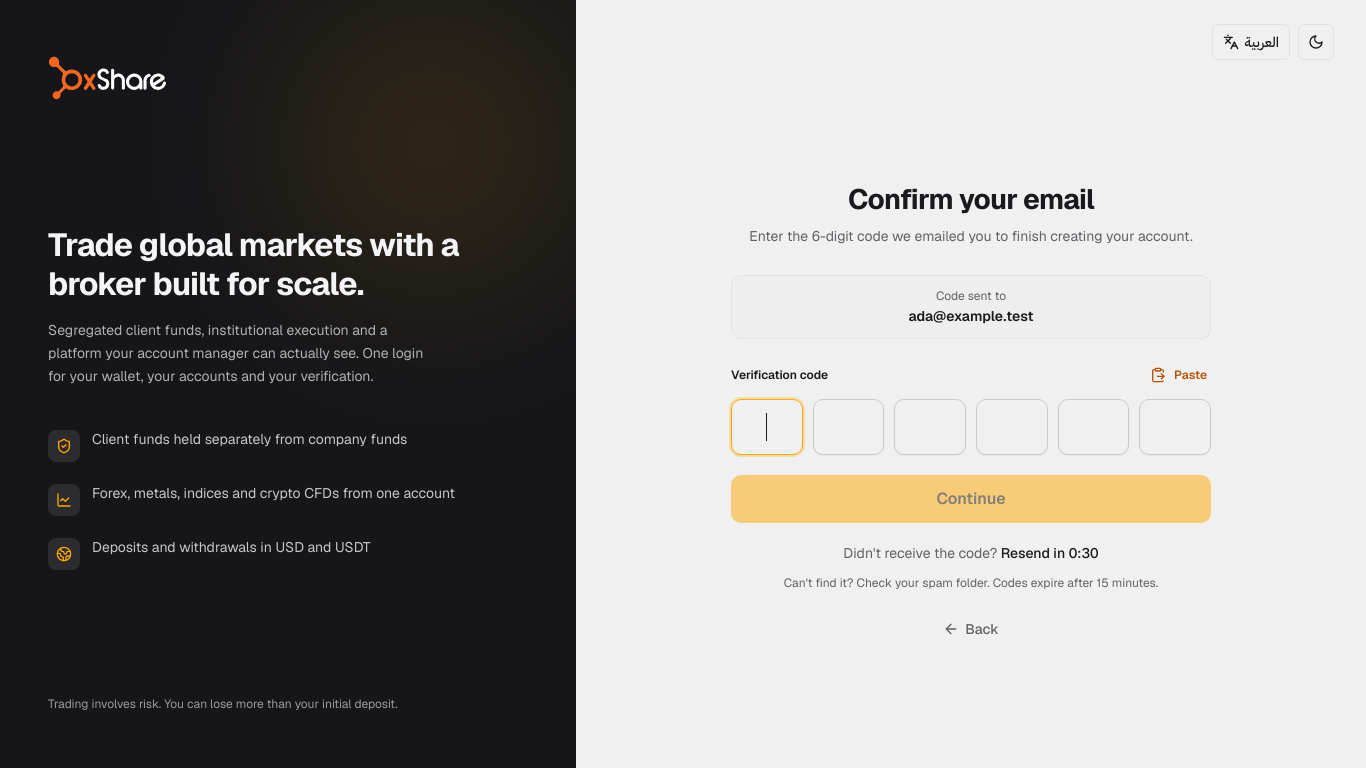
Test: paste › says so when the clipboard holds no code, and submits nothing
Click the button "Paste": (1179, 375) x1=1138 y1=359 x2=1219 y2=391
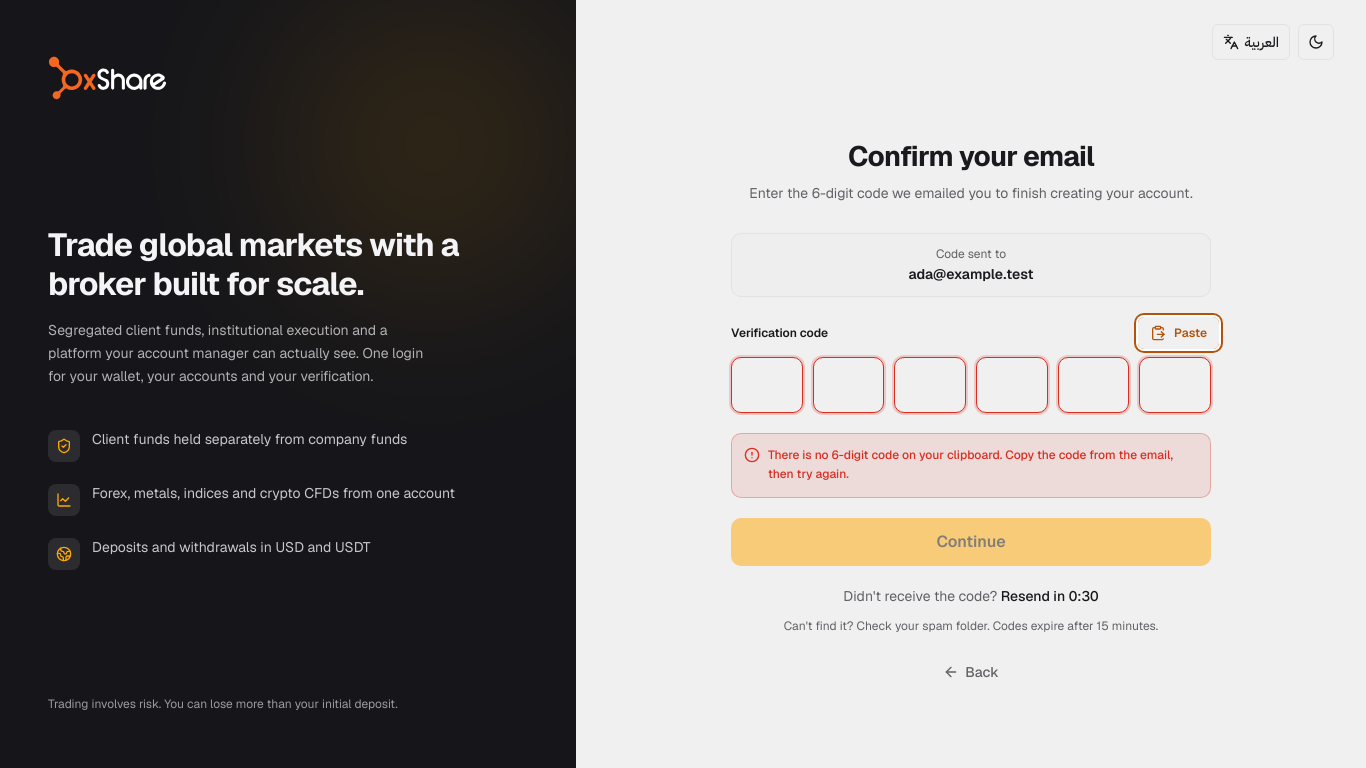
Expected: the message shows "no 6-digit code on your clipboard", x1=768 y1=447 x2=1173 y2=482
